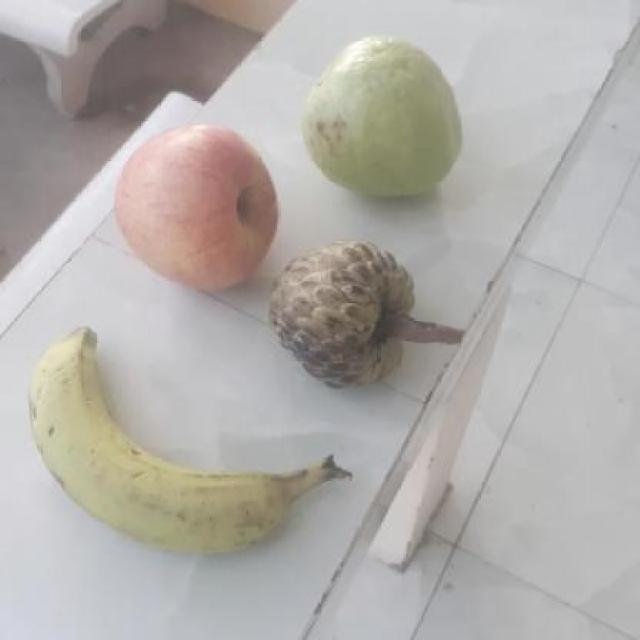apple: (107, 121, 282, 284)
banana: (33, 327, 336, 555)
guava: (310, 40, 464, 195)
sugar apple: (269, 236, 426, 389)
